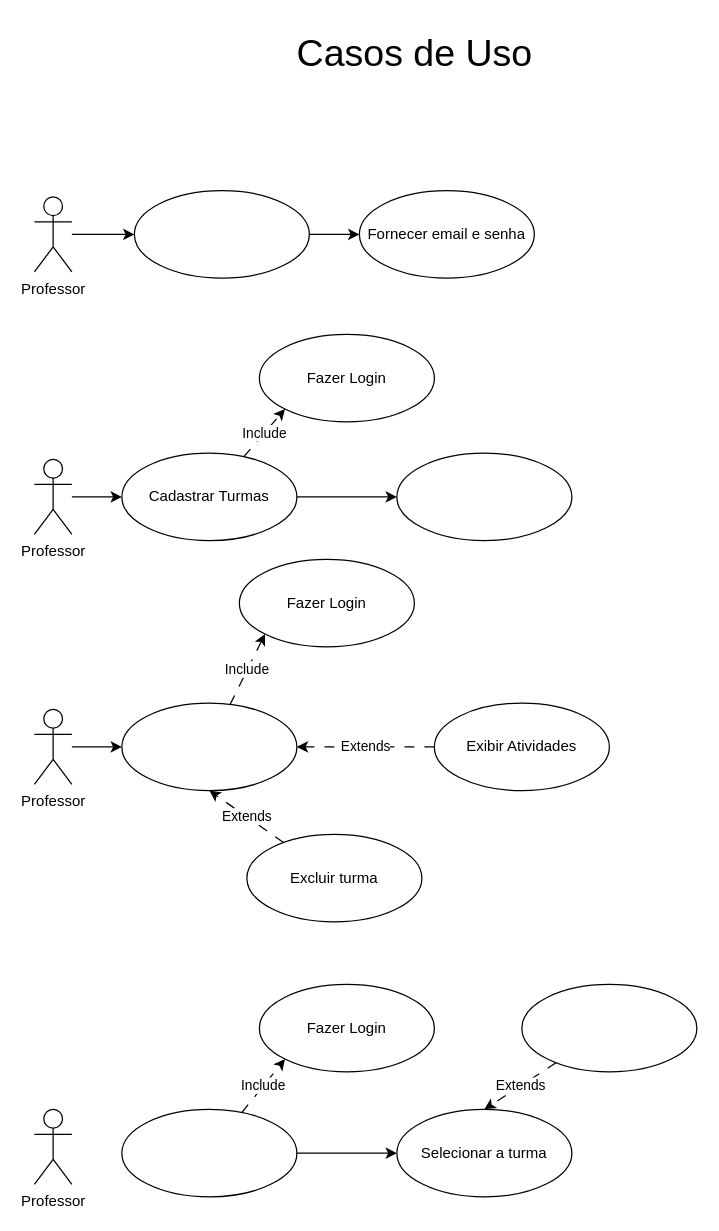
The diagram is 719 pixels wide and 1231 high, and some of its shapes have lost their labels. The shapes that lost their labels are listed below. From the top down, each one's box as (x1, y1, x2, y2) in pixels, then its label:
(133, 189, 309, 278): Realizar login
(396, 452, 572, 541): Fornecer nome da turma
(121, 702, 297, 791): Listar Turmas
(521, 983, 697, 1072): Cadastrar turma
(121, 1108, 297, 1197): Atribuir Atividades
